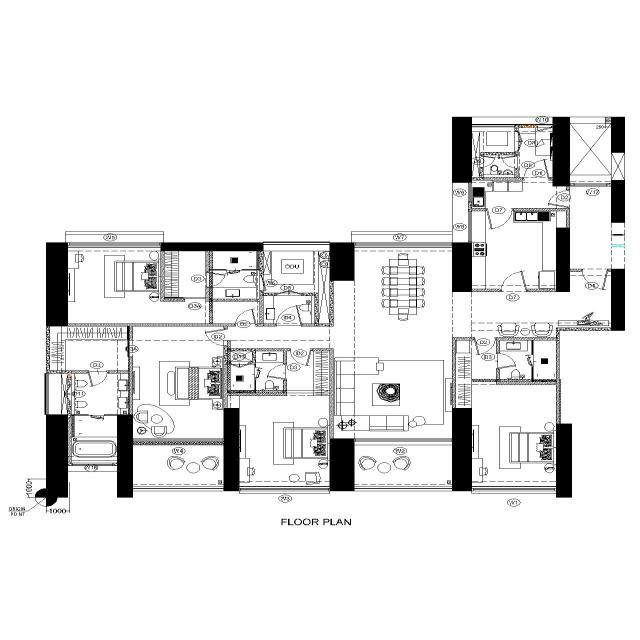Column: (45, 241, 69, 328), (45, 412, 69, 499), (450, 407, 474, 493), (115, 412, 135, 500), (551, 116, 573, 188), (328, 437, 356, 493), (451, 116, 474, 184), (223, 407, 241, 492), (554, 423, 574, 499), (450, 241, 474, 293), (328, 241, 357, 282), (555, 226, 571, 294), (159, 242, 265, 252), (610, 268, 626, 332), (610, 180, 626, 224), (610, 115, 626, 154)
Door: (513, 130, 521, 154), (522, 176, 552, 182), (275, 322, 304, 328), (126, 338, 134, 358), (499, 288, 529, 293), (233, 322, 257, 328), (258, 274, 266, 292), (486, 207, 514, 212), (183, 297, 206, 303), (565, 188, 571, 210), (229, 360, 251, 366), (580, 268, 610, 272), (473, 336, 497, 341), (205, 270, 211, 289), (275, 292, 303, 296), (495, 352, 501, 370), (282, 363, 288, 381), (288, 348, 312, 352), (66, 385, 72, 401), (86, 370, 109, 374), (478, 154, 484, 169), (222, 328, 228, 342), (514, 154, 519, 170)
Window: (352, 241, 454, 249), (64, 241, 163, 249), (471, 485, 558, 493), (238, 485, 332, 492), (132, 437, 226, 442), (466, 210, 474, 244), (70, 462, 114, 468), (572, 182, 608, 188), (467, 182, 473, 203), (536, 124, 554, 128)
